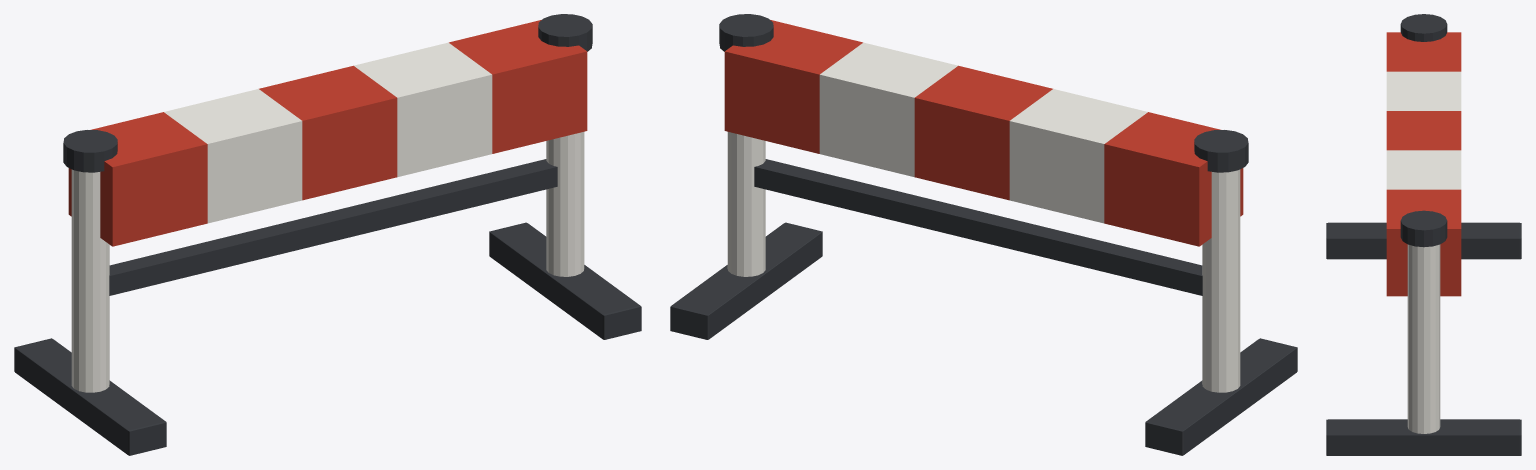
The model's file is hurdle-lod0.glb.
The picture shows the model from 3 angles, left to right: view 1: azimuth 30°, elevation 25°; view 2: azimuth 150°, elevation 25°; view 3: azimuth 270°, elevation 25°; orthographic projection. The views are drawn at different scales.
Visible parts, largest first — view 1: hurdle; view 2: hurdle; view 3: hurdle.
Part boxes in pixels (box(x1,y1,x2,y2)): hurdle: box(14, 14, 641, 455); hurdle: box(670, 14, 1297, 455); hurdle: box(1326, 14, 1521, 455).
Size of the model in its own units: 1.1 by 0.54 by 0.42.
